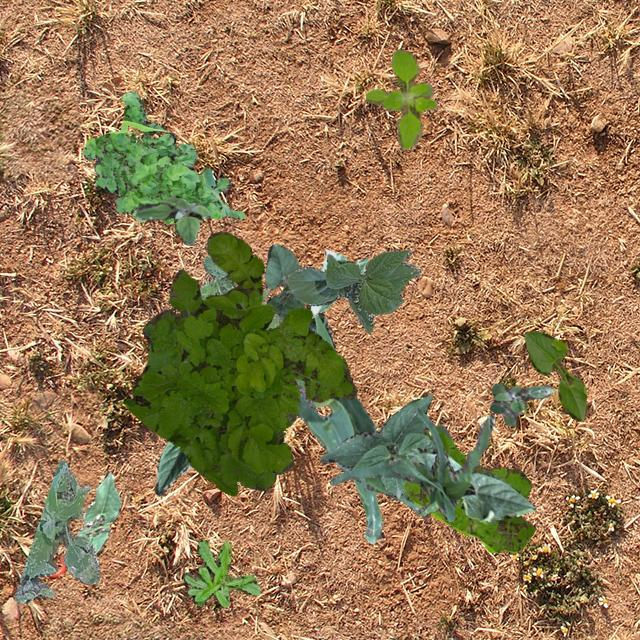crop: (294, 304, 382, 542), (330, 406, 493, 520), (293, 376, 421, 512), (318, 392, 434, 497), (284, 248, 419, 332), (406, 447, 534, 522), (522, 330, 586, 420), (310, 248, 368, 316), (76, 471, 120, 552), (264, 243, 304, 320), (154, 440, 190, 494)
weed: (124, 230, 356, 494), (82, 90, 245, 222), (402, 424, 534, 552), (12, 460, 98, 602), (364, 48, 436, 148), (200, 254, 282, 328), (182, 538, 260, 606), (134, 194, 210, 244), (488, 382, 552, 426)
